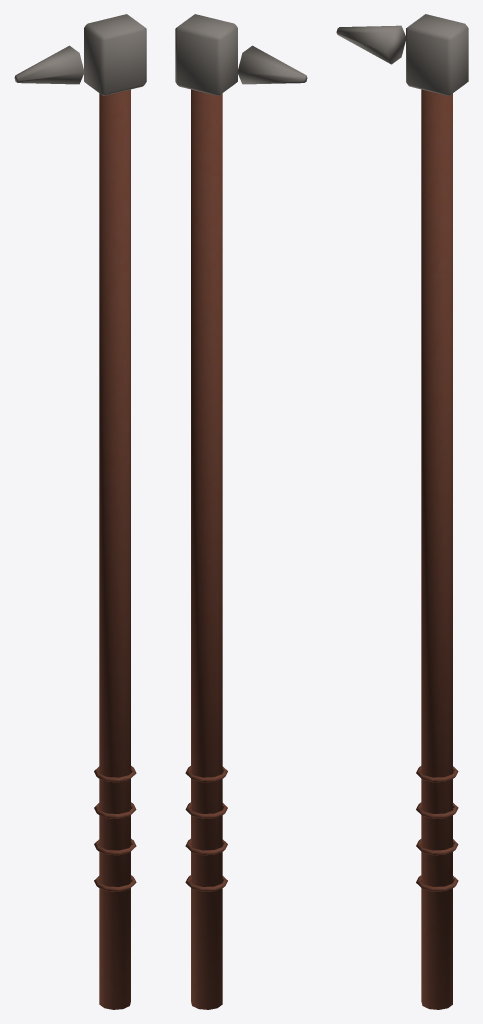
File: warhammer.fbx
3 views of the same model, side by side, from view 1: azimuth 30°, elevation 25°; view 2: azimuth 150°, elevation 25°; view 3: azimuth 330°, elevation 25° (orthographic).
Parts seen in each view (by area): view 1: warhammer; view 2: warhammer; view 3: warhammer.
Part boxes in pixels (left/top/right/bottom): warhammer: left=14, top=14, right=146, bottom=1009; warhammer: left=175, top=14, right=307, bottom=1009; warhammer: left=336, top=14, right=468, bottom=1009.
Bounding box in the file's own units: 0.105 × 0.805 × 0.0304.
Materials: 2 (1 with a texture image).
